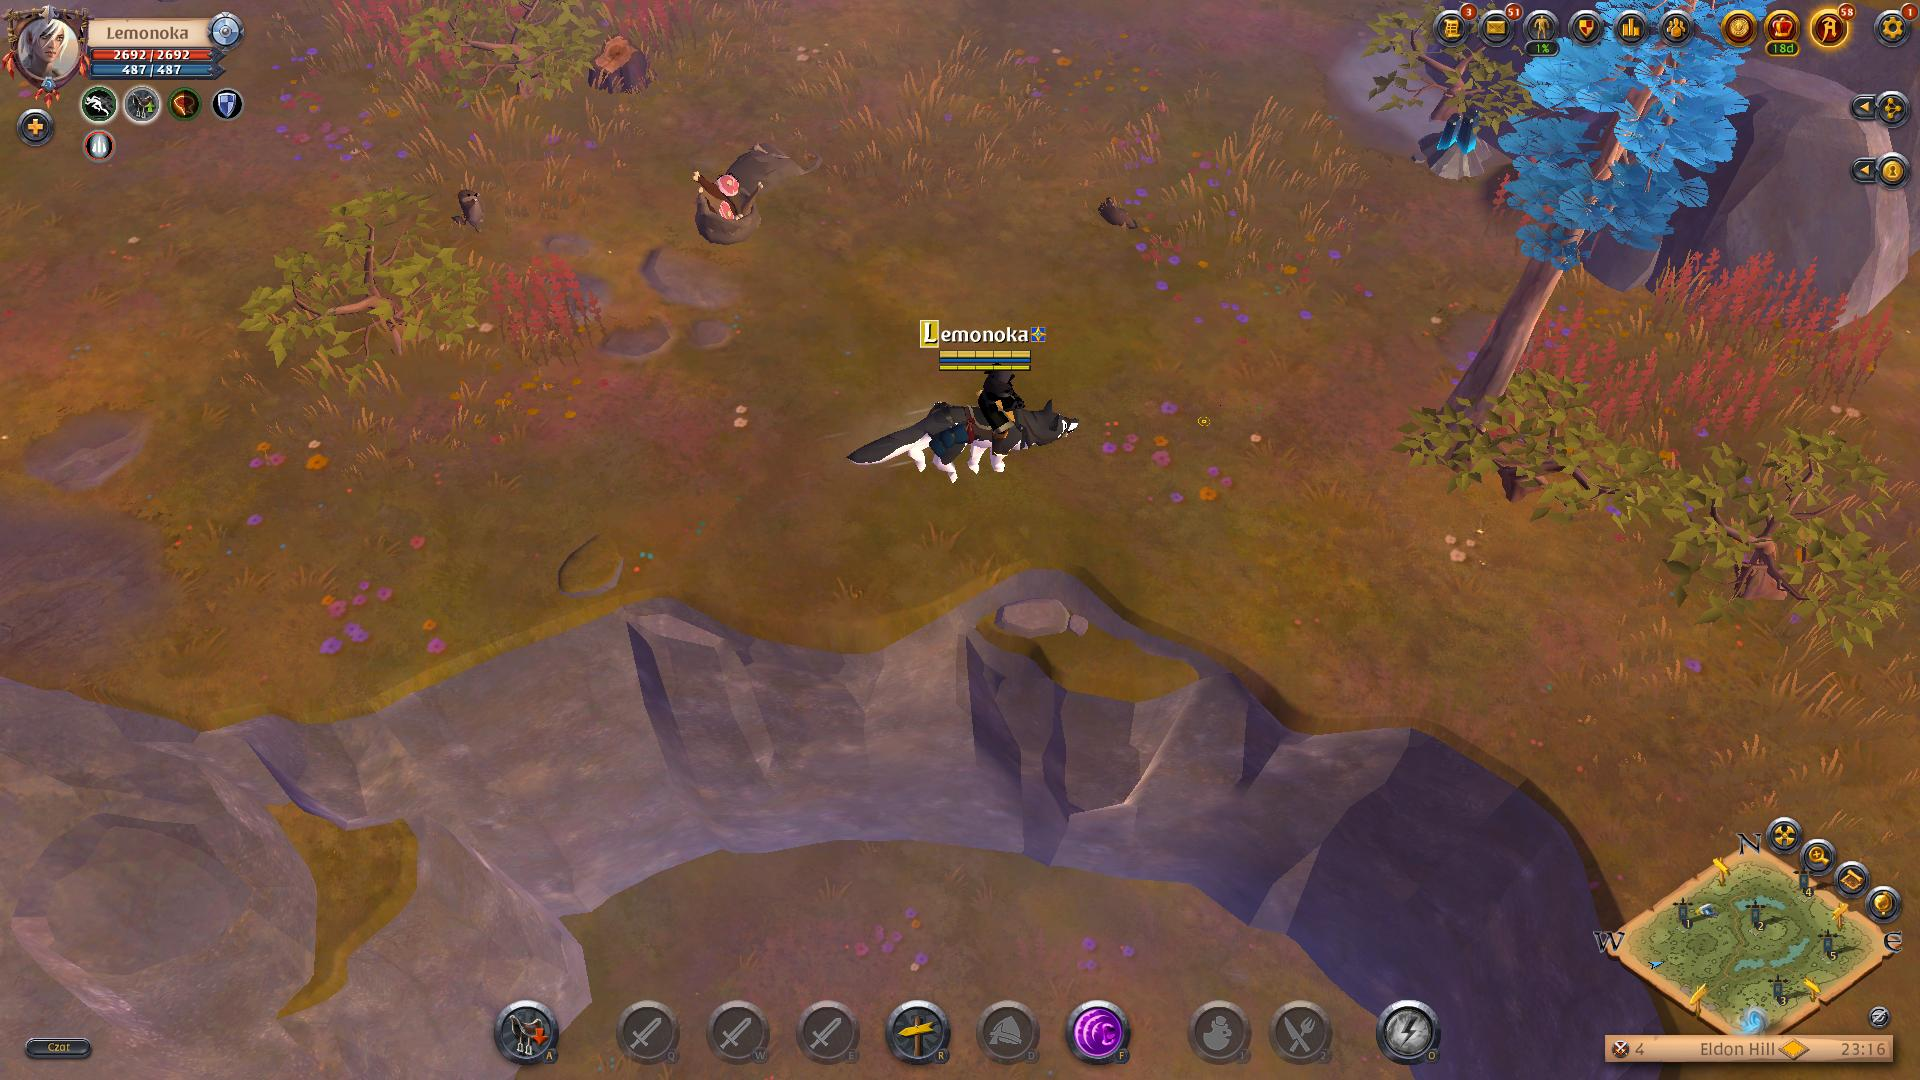ore tier 4: (1422, 100, 1493, 189)
wood tier 4: (1509, 0, 1767, 282)
